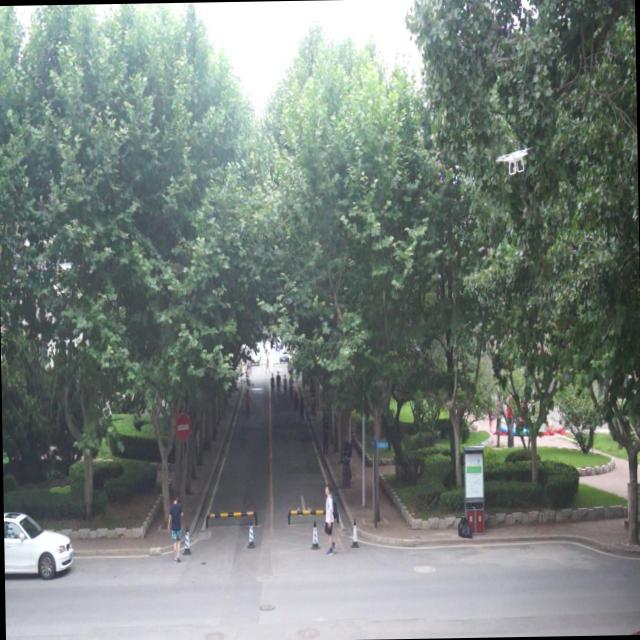drone: (494, 143, 532, 177)
